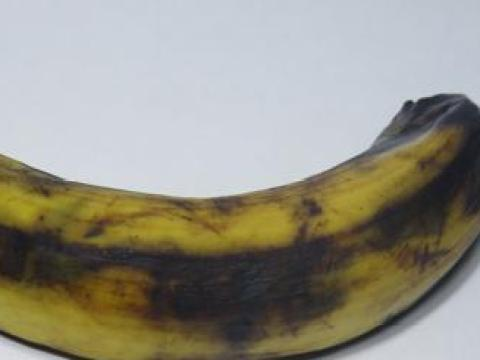overripe: (0, 81, 479, 359)
